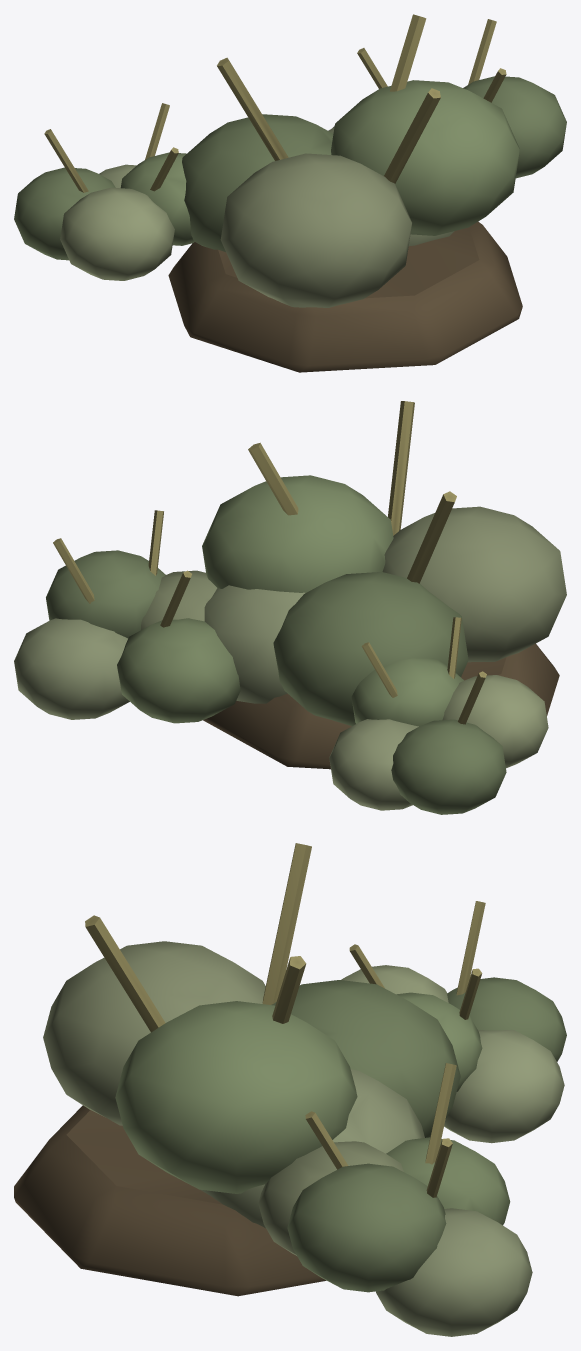
The model's file is bursage_a.glb.
The picture shows the model from 3 angles, top to bottom: view 1: azimuth 30°, elevation 25°; view 2: azimuth 150°, elevation 25°; view 3: azimuth 270°, elevation 25°; orthographic projection. The views are drawn at different scales.
Parts seen in each view (by area): view 1: Surface; view 2: Surface; view 3: Surface.
Part boxes in pixels (left/top/right/bottom): Surface: left=14, top=14, right=566, bottom=372; Surface: left=14, top=401, right=566, bottom=814; Surface: left=14, top=843, right=566, bottom=1336.
Bounding box in the file's own units: 2.05 × 0.9927 × 1.63.
